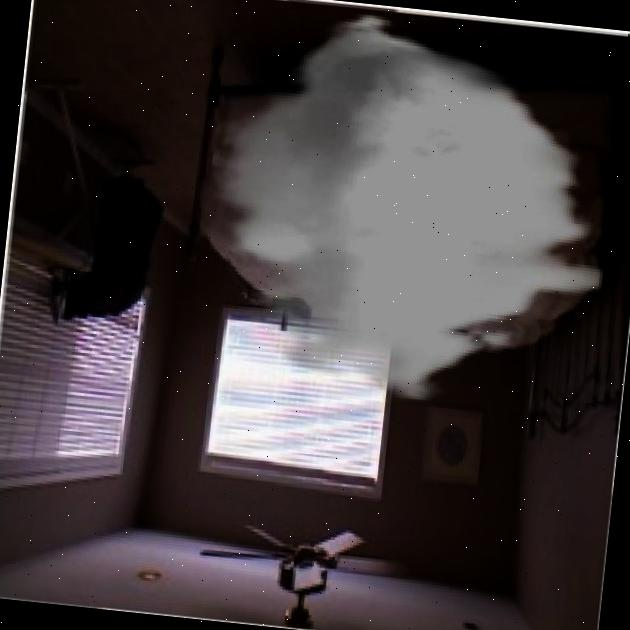smoke: (190, 0, 628, 420)
